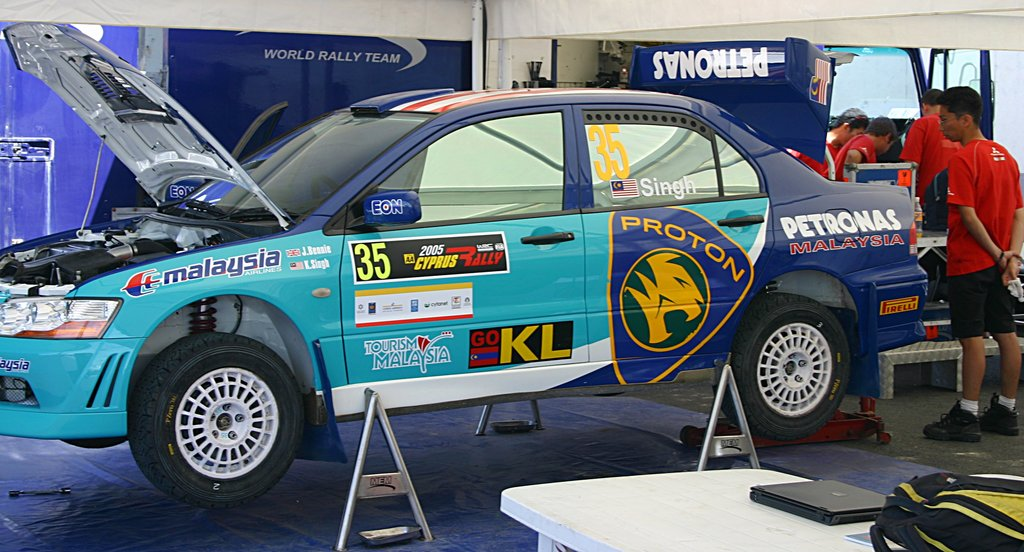cars: (0, 25, 924, 504)
